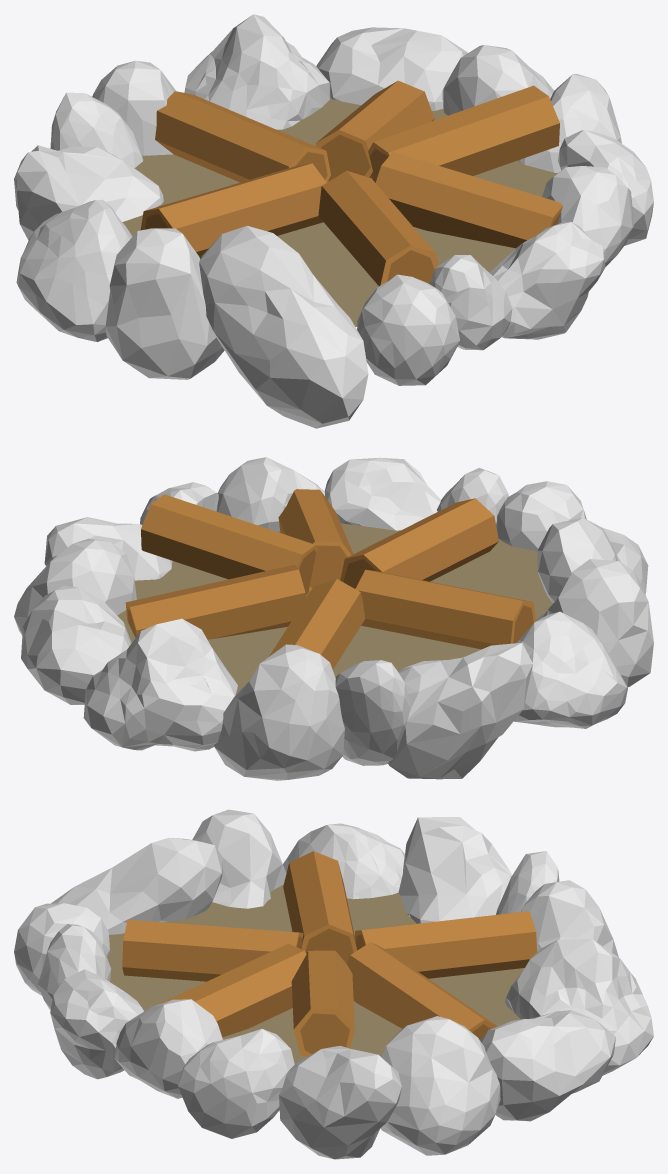
The model's file is campfire.obj.
The picture shows the model from 3 angles, top to bottom: view 1: azimuth 30°, elevation 25°; view 2: azimuth 150°, elevation 25°; view 3: azimuth 270°, elevation 25°; orthographic projection. The views are drawn at different scales.
Parts seen in each view (by area): view 1: rock.008, tree_log_Cylinder, ground_Circle; view 2: rock.008, tree_log_Cylinder, ground_Circle; view 3: rock.008, tree_log_Cylinder, ground_Circle.
Boxes of the visible parts, bbox=[...] form: rock.008: bbox=[14, 14, 653, 428]; tree_log_Cylinder: bbox=[140, 80, 562, 286]; ground_Circle: bbox=[122, 98, 557, 326]; rock.008: bbox=[14, 457, 653, 780]; tree_log_Cylinder: bbox=[125, 489, 535, 669]; ground_Circle: bbox=[117, 523, 552, 693]; rock.008: bbox=[14, 809, 653, 1159]; tree_log_Cylinder: bbox=[122, 851, 537, 1057]; ground_Circle: bbox=[107, 884, 524, 1064].
Bounding box in the file's own units: 3.66 × 0.9353 × 3.67.
4 materials, 4 textured.
